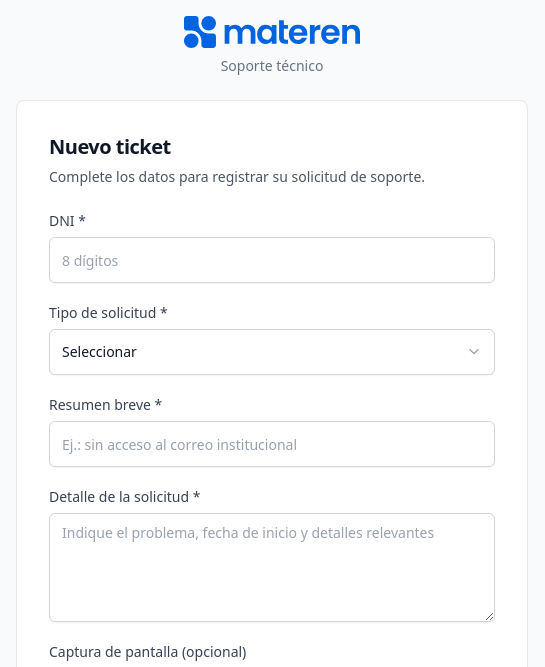
Test: TicketNuevoView.vue — aviso fijo por categoría/subcategoría (114) › sin categoría elegida no hay aviso; al elegir una con aviso aparece como nota ámbar
Select "Redes" in the dropdown labelled "Tipo de solicitud *" at (272, 352), box [50,330,494,374]
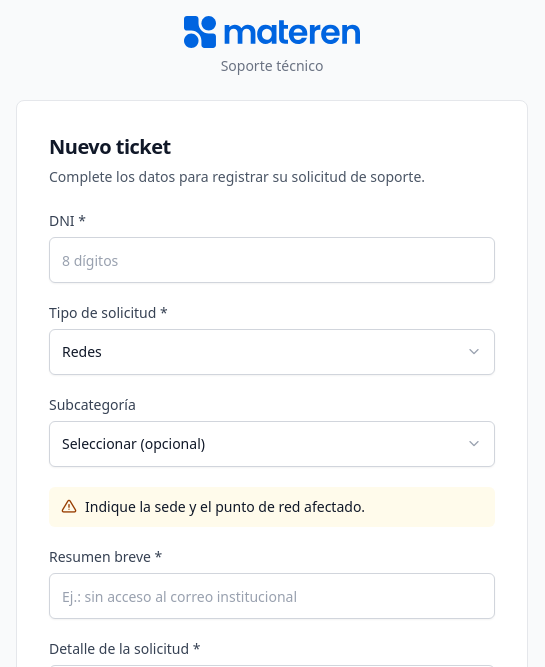
Expected: the element showing "Indique la sede y el punto de red afectado." is shown, [49,487,495,527]
Expected: the icon with class "ti-alert-triangle" is shown, [61,499,77,515]
